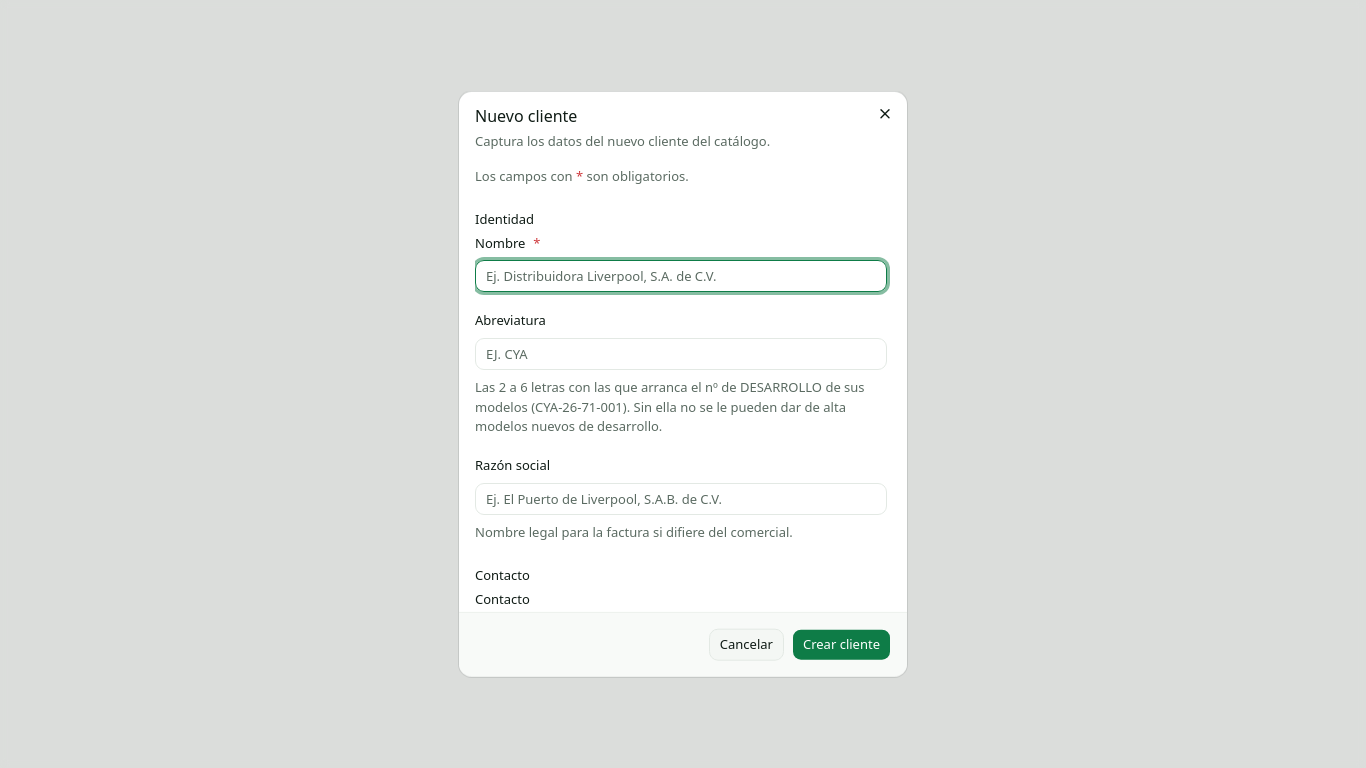
it: <DialogoCliente> › exige el nombre antes de guardar
Click the button with test id "guardar-cliente" at coordinates (842, 644), box [792,628,891,660]
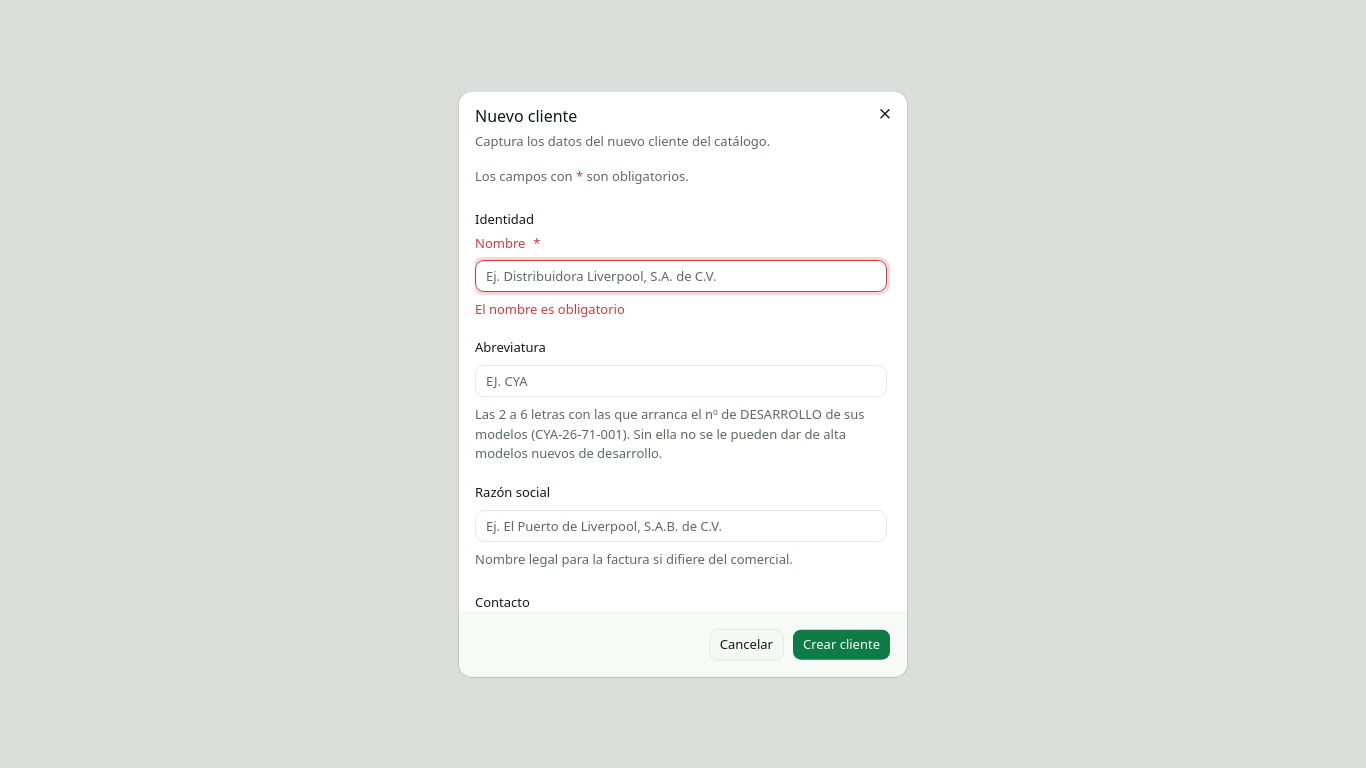
Check: the text "El nombre es obligatorio" is shown, box [475,300,625,318]
